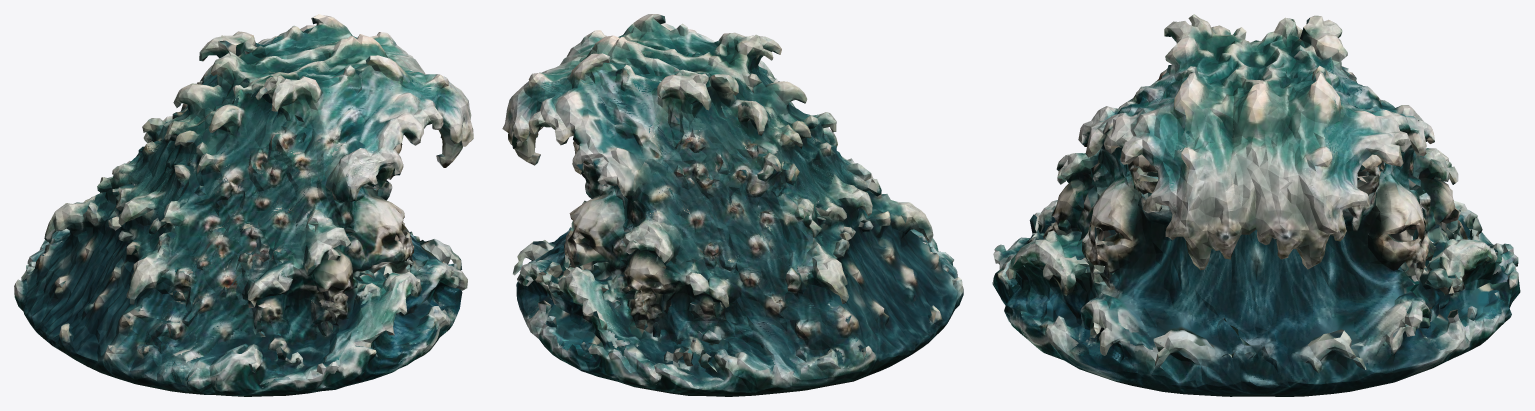
The model's file is foe_skull_tide.glb.
3 renders of one model, left to right at view 1: azimuth 30°, elevation 25°; view 2: azimuth 150°, elevation 25°; view 3: azimuth 270°, elevation 25°, orthographic. The views are drawn at different scales.
Parts seen in each view (by area): view 1: temp_mesh.ply; view 2: temp_mesh.ply; view 3: temp_mesh.ply.
Part boxes in pixels (x1,y1,x2,y2): temp_mesh.ply: (14,14,473,396); temp_mesh.ply: (502,14,963,396); temp_mesh.ply: (992,14,1520,396).
Size of the model in its own units: 1.97 by 1.24 by 1.98.
Materials: 1 (1 with a texture image).
